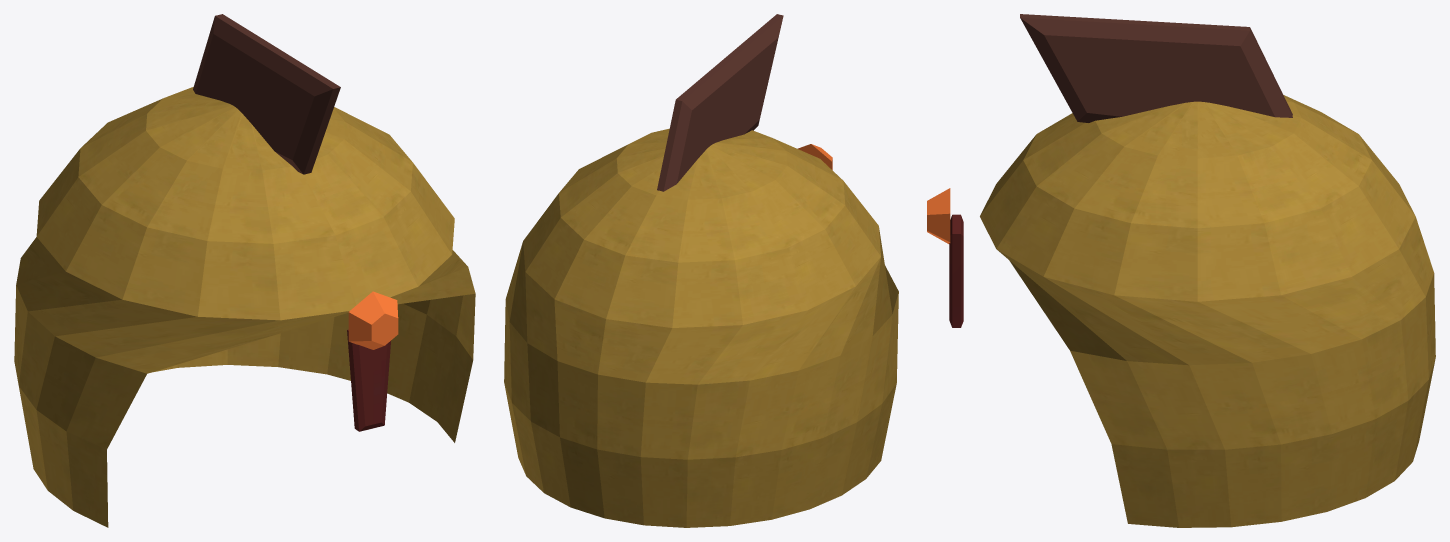
Rendered from eq_past_3_head.glb.
The picture shows the model from 3 angles, left to right: view 1: azimuth 30°, elevation 25°; view 2: azimuth 150°, elevation 25°; view 3: azimuth 270°, elevation 25°; orthographic projection. The views are drawn at different scales.
Visible parts, largest first — view 1: eq_past_3_head; view 2: eq_past_3_head; view 3: eq_past_3_head.
Part boxes in pixels (box(x1,y1,x2,y2)): eq_past_3_head: box(14, 14, 475, 527); eq_past_3_head: box(504, 14, 898, 527); eq_past_3_head: box(927, 14, 1435, 527).
Size of the model in its own units: 0.3047 by 0.3268 by 0.3538.
4 materials, 3 textured.
